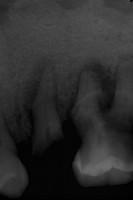Dental Caries: (71, 51, 133, 105)
Furcation Involvement: (23, 59, 51, 117)
